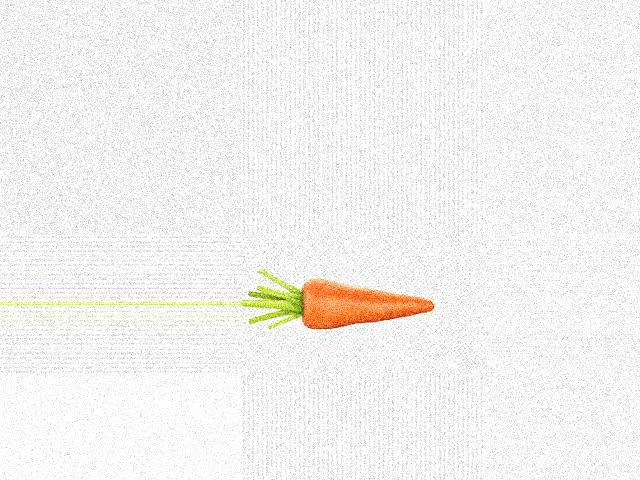carrot: (301, 274, 440, 336)
